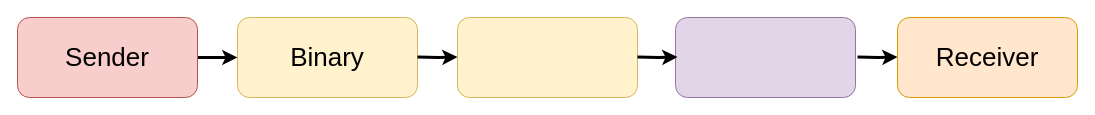
Some shapes in this 1095 by 115 pixel diagram are drawn without their labels. Each missing label, with the centre of its shape:
BER: pixel 765 57
Channel: pixel 547 57
